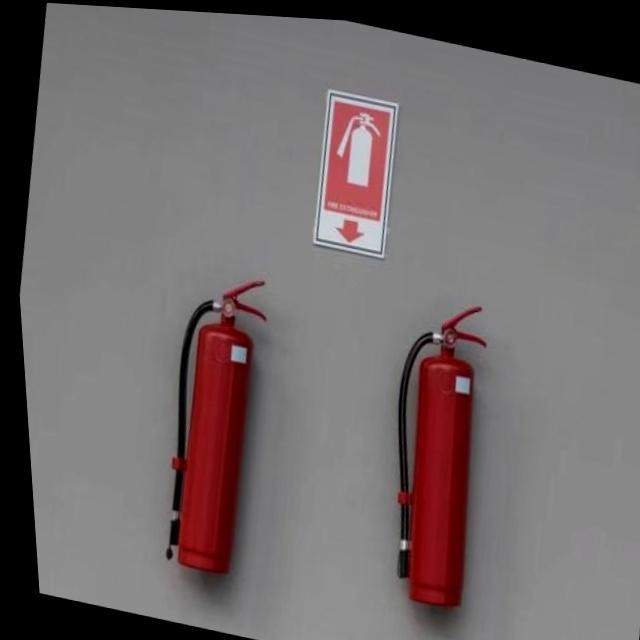FireExtinguisher: (352, 275, 508, 611), (132, 255, 286, 583)
